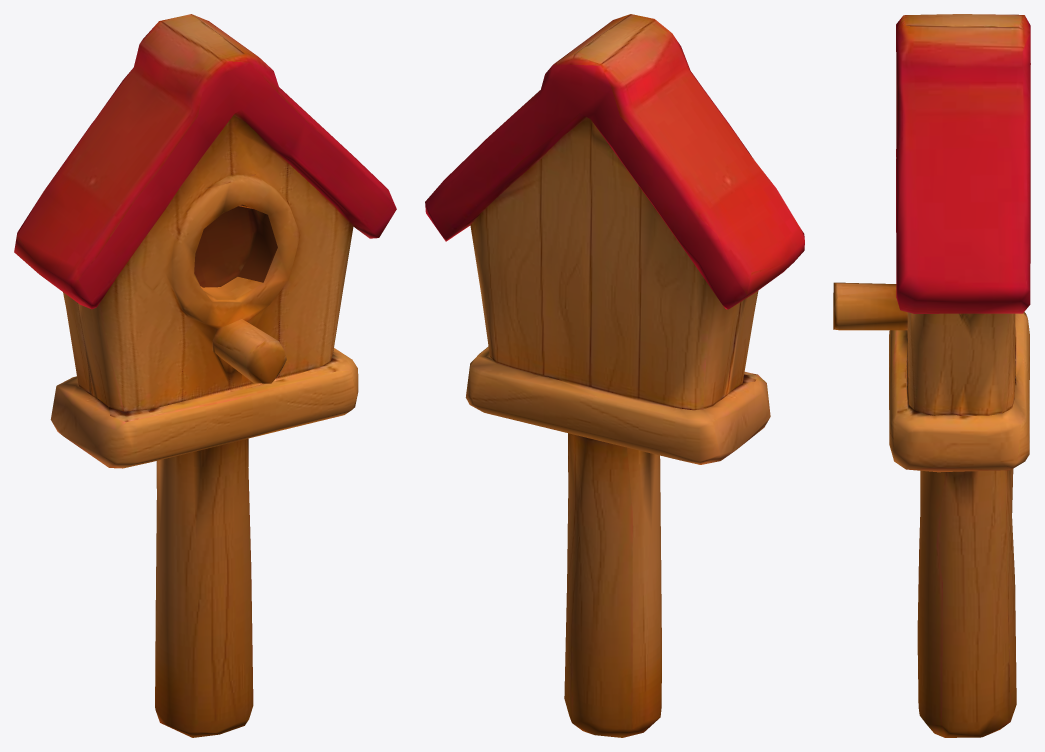
File: birdhouse.glb
3 renders of one model, left to right at view 1: azimuth 30°, elevation 25°; view 2: azimuth 150°, elevation 25°; view 3: azimuth 270°, elevation 25°, orthographic. The views are drawn at different scales.
Parts seen in each view (by area): view 1: textured_mesh.obj; view 2: textured_mesh.obj; view 3: textured_mesh.obj.
Boxes of the visible parts, bbox=[...] form: textured_mesh.obj: bbox=[14, 14, 396, 737]; textured_mesh.obj: bbox=[425, 14, 804, 737]; textured_mesh.obj: bbox=[833, 14, 1030, 737].
Size of what is drawn, in the model's own units: 0.8089 by 1.6 by 0.4077.
1 material, 1 textured.
